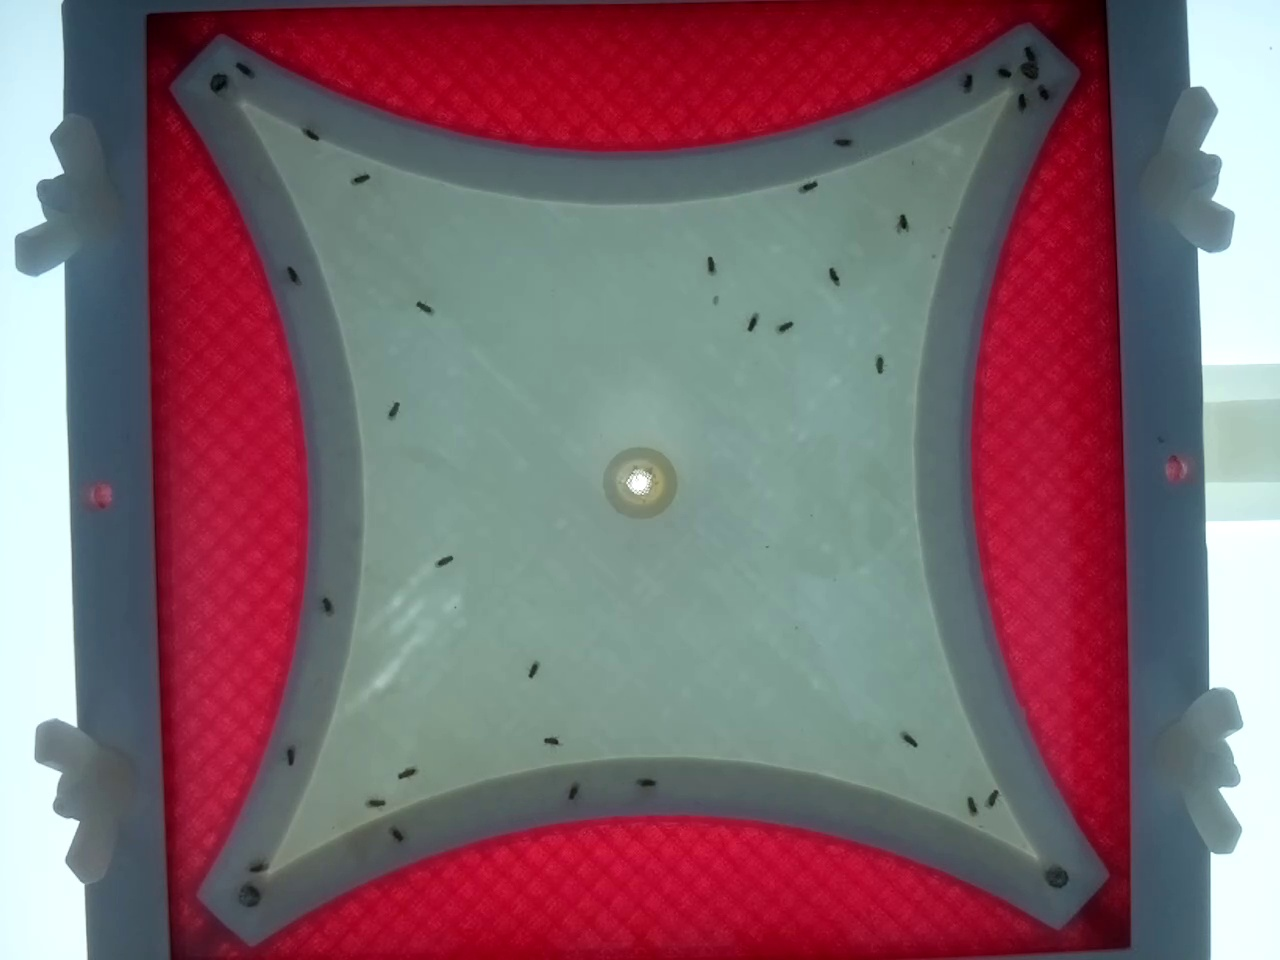fly: (279, 259, 304, 284), (889, 209, 914, 234), (1030, 82, 1055, 107), (1008, 88, 1033, 113), (740, 309, 765, 334), (772, 314, 797, 339), (867, 352, 892, 377), (604, 446, 629, 471), (277, 743, 302, 768), (895, 726, 920, 751), (363, 790, 388, 815), (384, 822, 409, 847), (538, 728, 563, 753), (242, 855, 267, 880), (980, 785, 1005, 810), (297, 121, 322, 146), (348, 165, 373, 190), (821, 264, 846, 289), (955, 68, 980, 93), (798, 173, 823, 198), (230, 55, 255, 80), (698, 252, 723, 277), (824, 131, 849, 156), (412, 295, 437, 320), (1016, 40, 1041, 65), (990, 61, 1015, 85), (381, 397, 406, 422), (521, 656, 546, 681), (639, 770, 664, 795), (313, 592, 338, 617), (395, 760, 420, 785), (959, 793, 984, 818), (431, 547, 456, 572), (240, 878, 265, 903), (559, 781, 584, 805)
